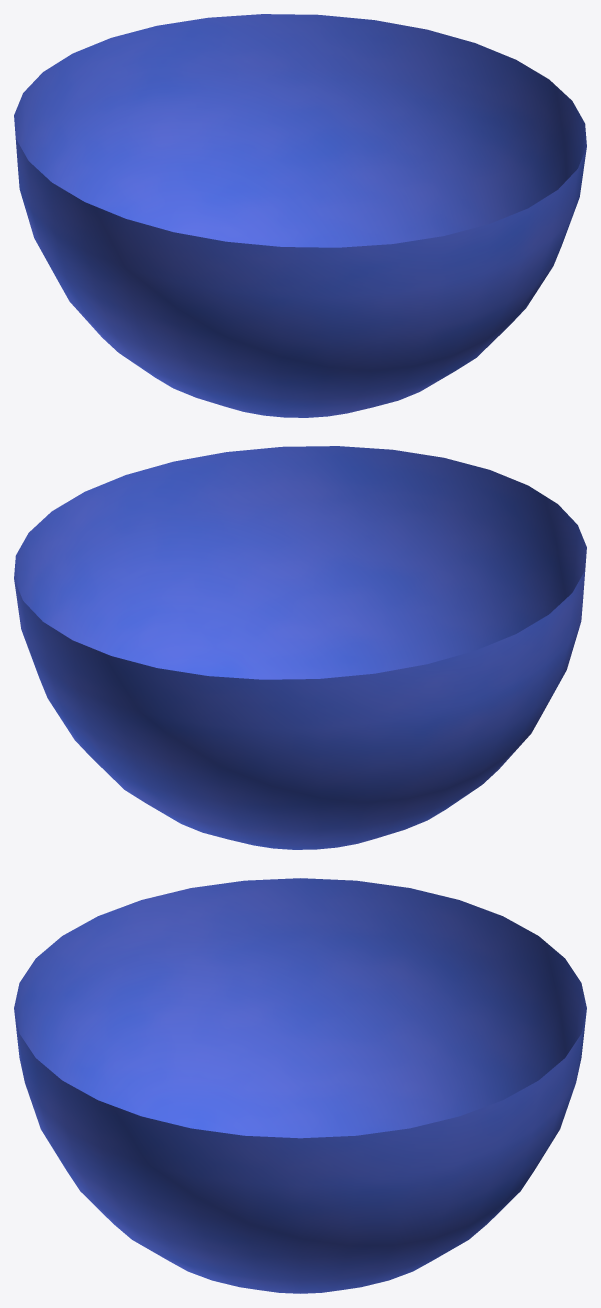
File: soucoupeBot.gltf
The picture shows the model from 3 angles, top to bottom: view 1: azimuth 30°, elevation 25°; view 2: azimuth 150°, elevation 25°; view 3: azimuth 270°, elevation 25°; orthographic projection.
Parts seen in each view (by area): view 1: Sphere.001; view 2: Sphere.001; view 3: Sphere.001.
Boxes of the visible parts, x1,y1,x2,y2 form: Sphere.001: (14, 14, 586, 417); Sphere.001: (14, 446, 586, 849); Sphere.001: (14, 878, 586, 1293).
Bounding box in the file's own units: 3.01 × 1.46 × 3.01.
1 material, 1 textured.
